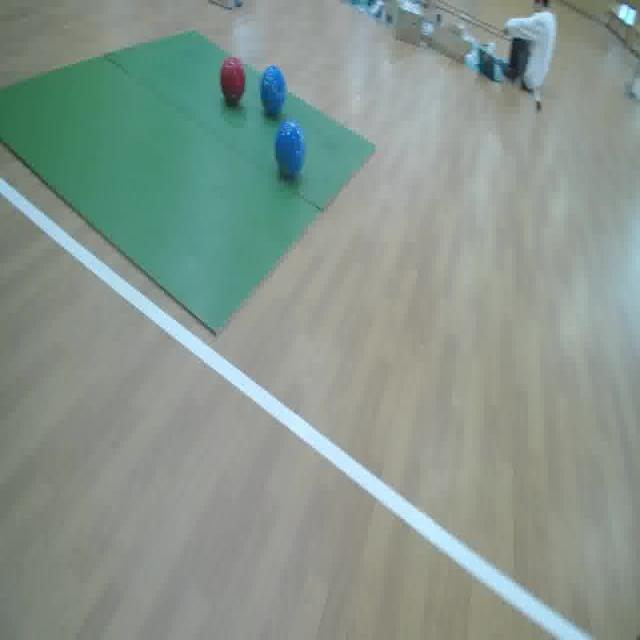blue_ball: (275, 119, 308, 186), (260, 63, 290, 118)
red_ball: (220, 56, 248, 106)
